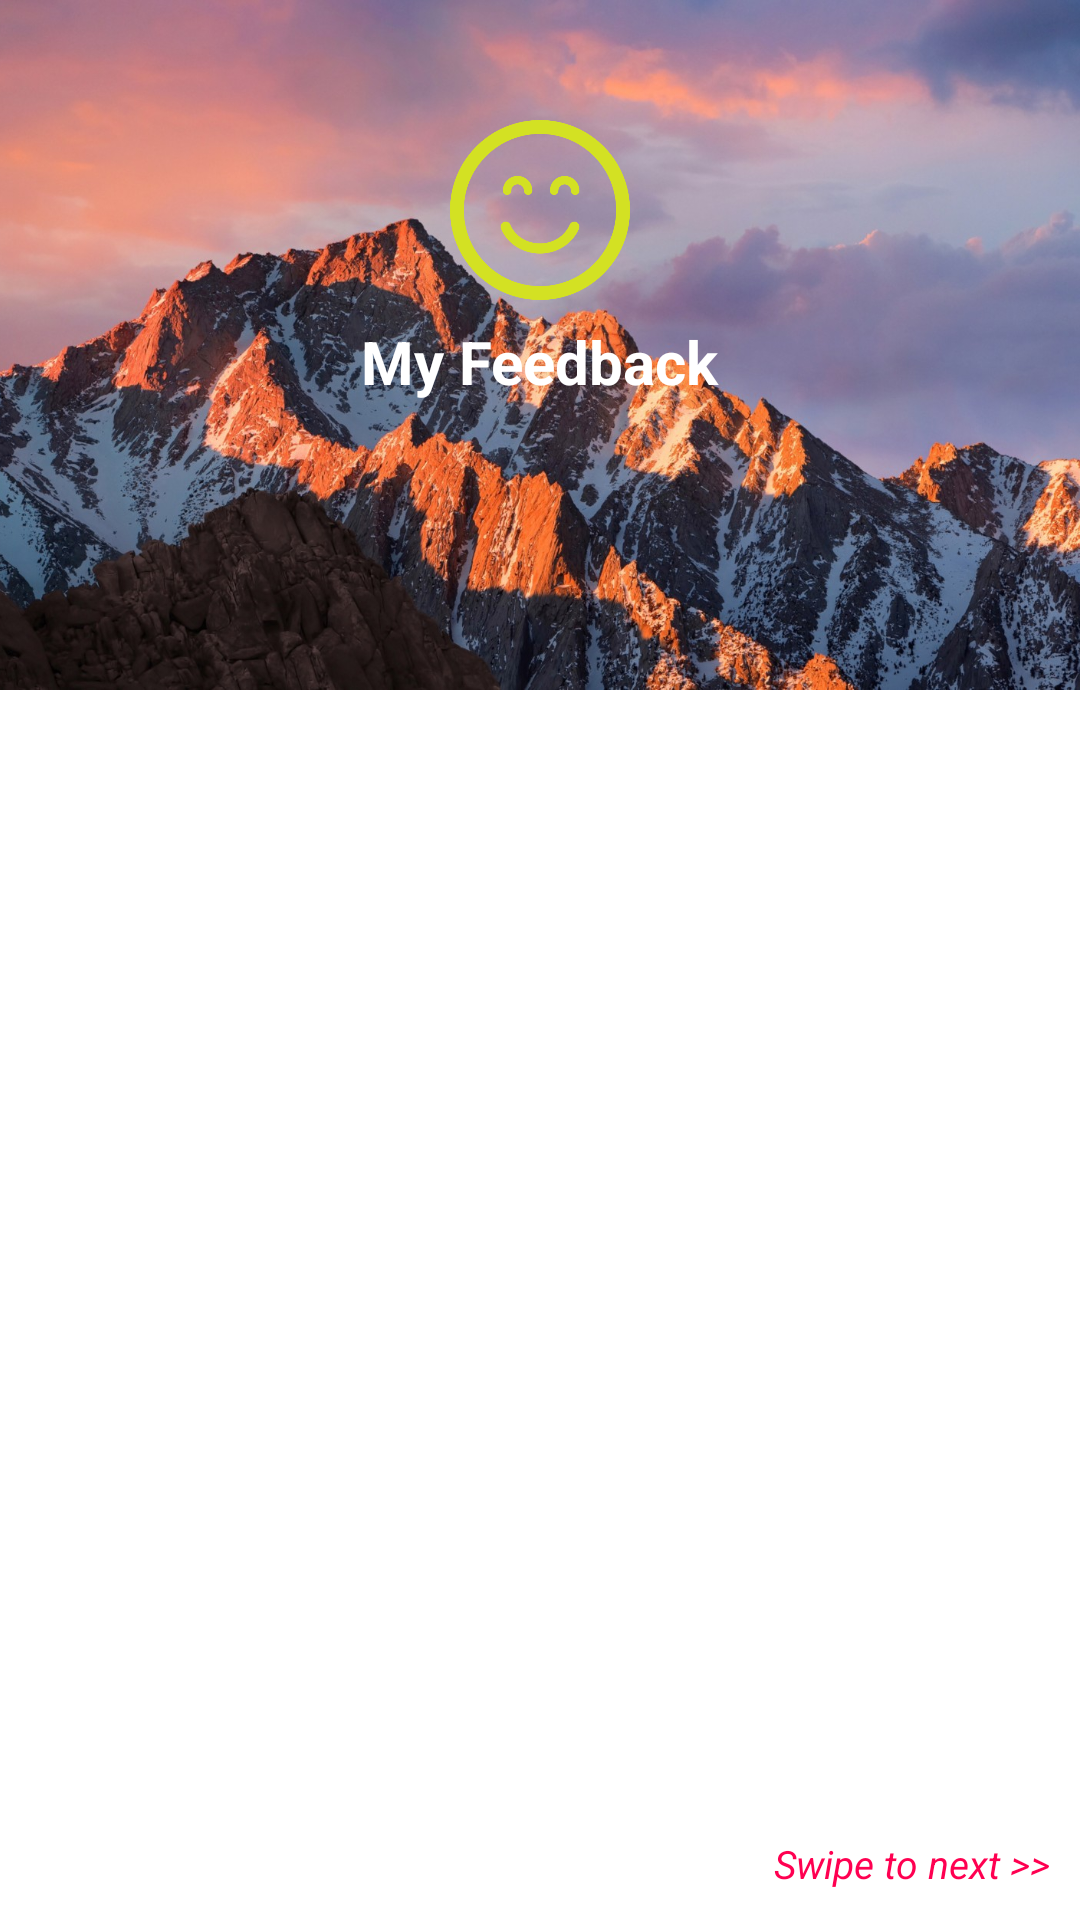

Icons on this 1080*1920 Android screen, each with its box as (x1=x1, y1=y1, x2=x2, y2=y2):
smill: (x1=450, y1=120, x2=630, y2=300)
